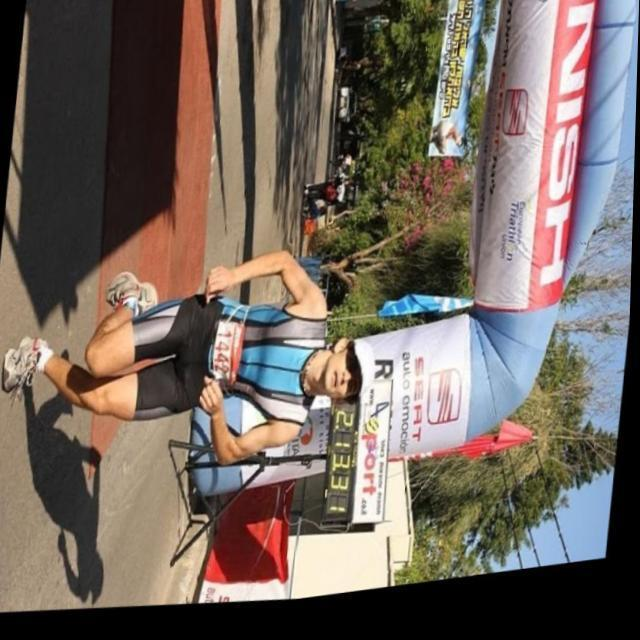dorsal: (208, 323, 250, 392)
